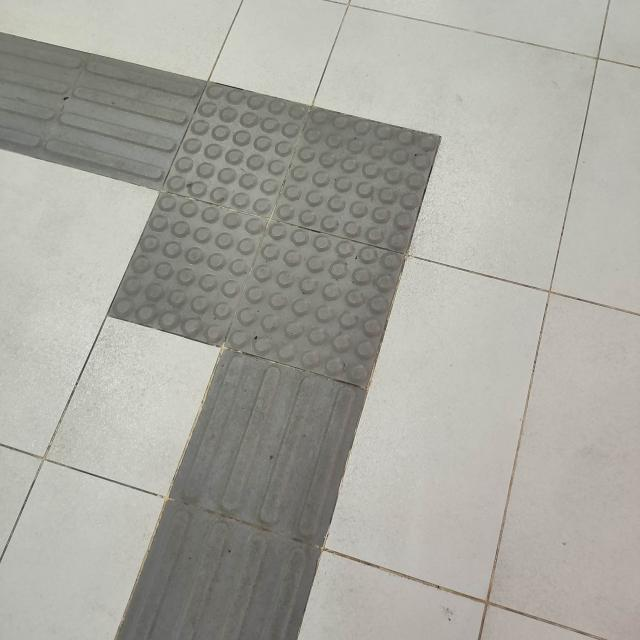kiri: (0, 0, 475, 518)
